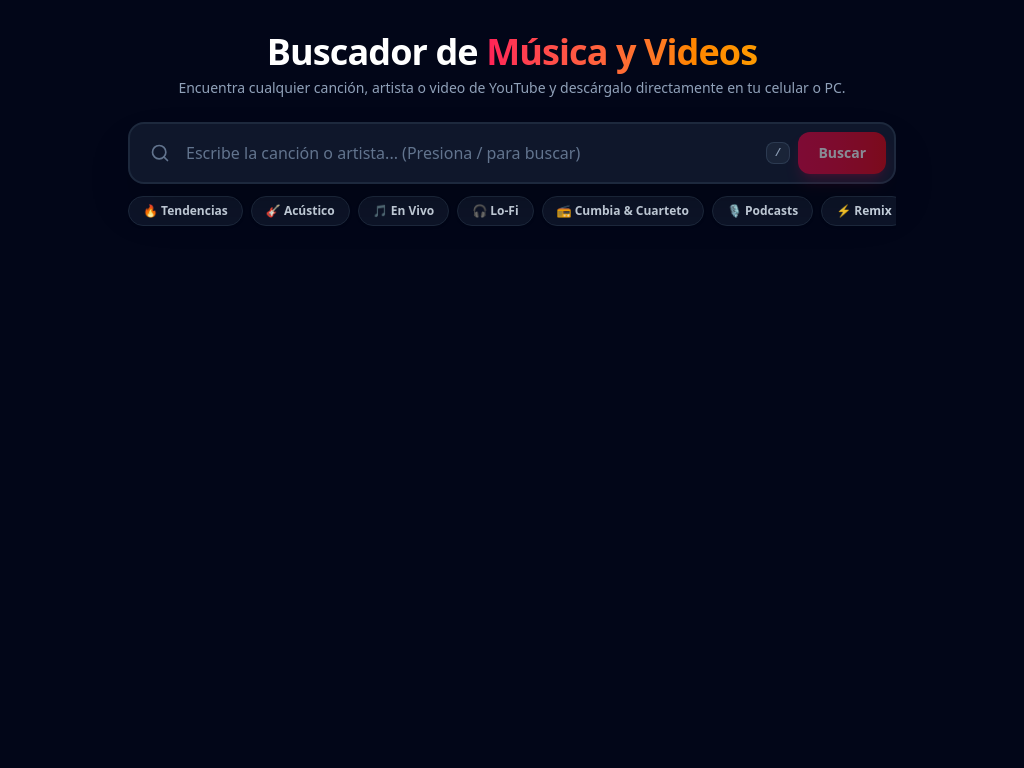
DesktopExperience - Atajos de Teclado, Modo Teatro y Control por Ratón › SearchDownloader - Experiencia Desktop y Atajo / › debe renderizar la cuadrícula optimizada para pantallas grandes con sm:grid-cols-2 md:grid-cols-3 lg:grid-cols-4 max-w-7xl
Step 1. Type "Rock" into the field with test id "search-input" → (472, 153), box [178,133,766,173]
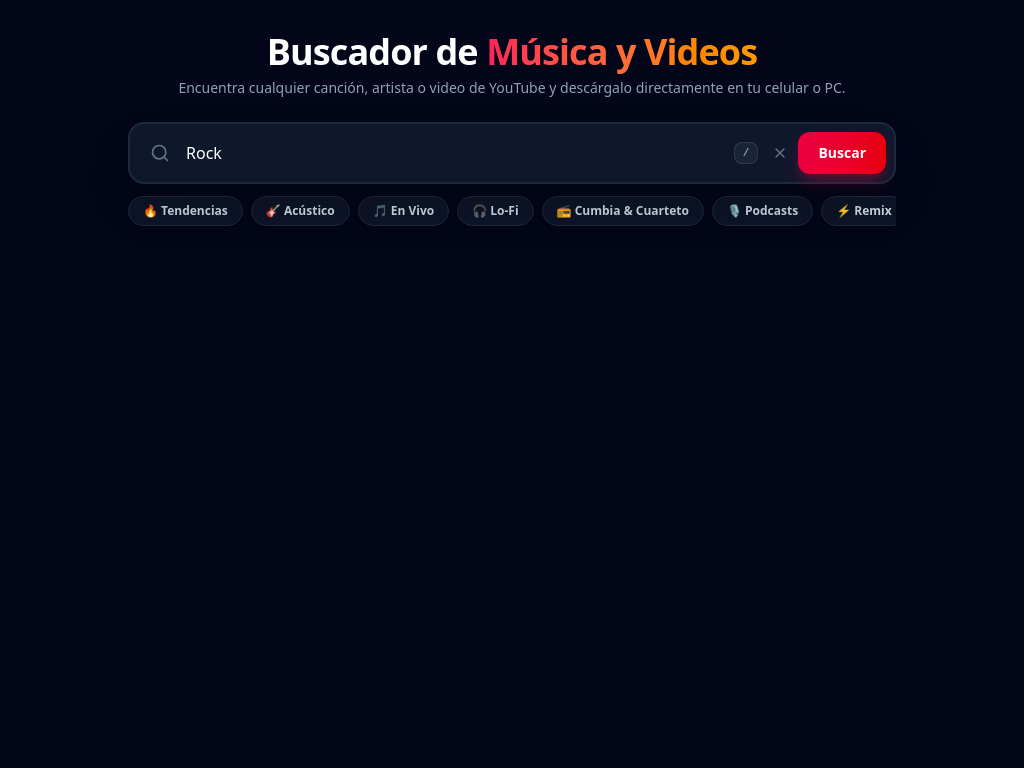
Step 2. Click the button "Buscar" → (842, 153), box [798,132,886,174]
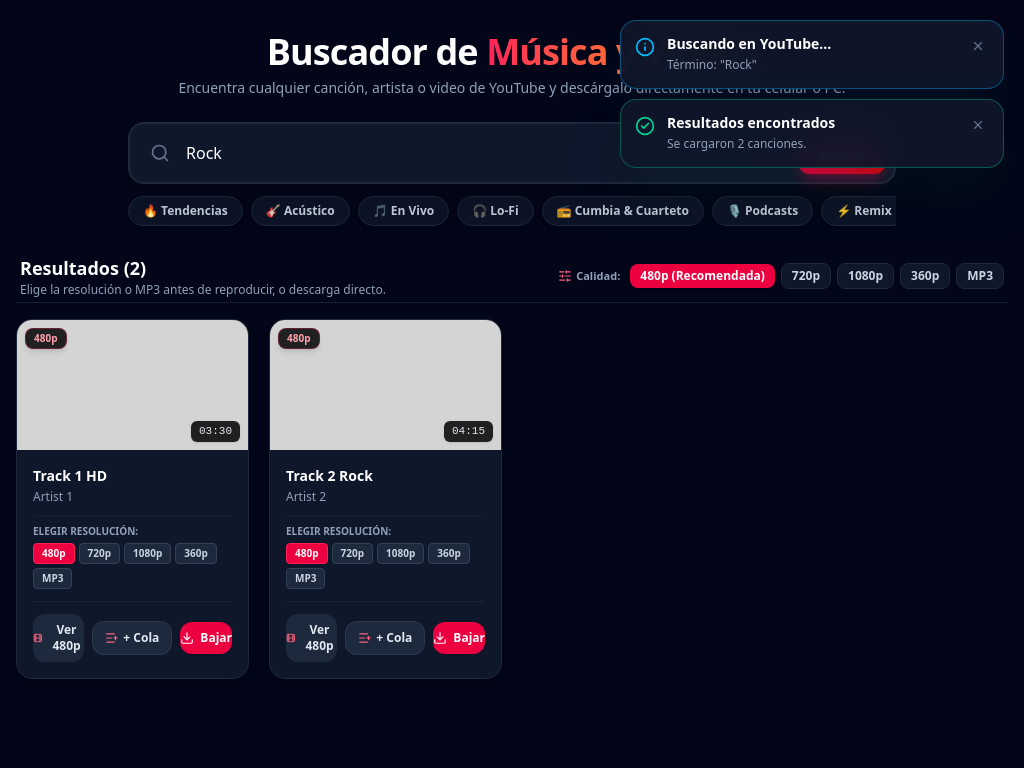
Expected: the heading "Resultados (2)" is shown, [20,256,146,280]
Expected: the element with class "hidden" that starts with "480p" is shown, [16,319,502,679]
